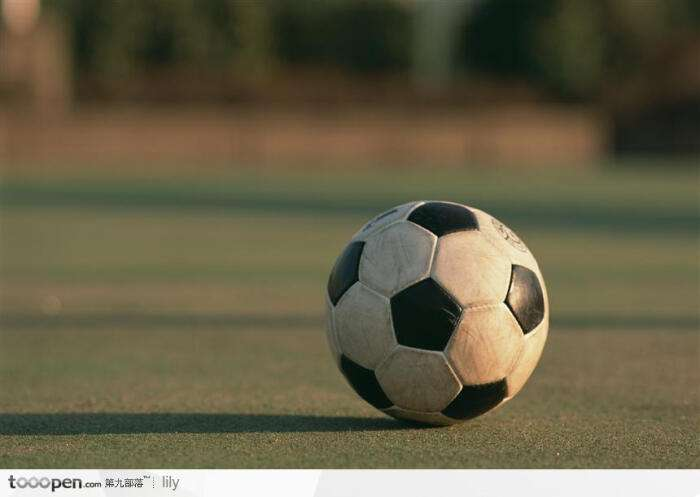football: (327, 200, 550, 429)
